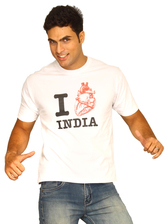clothoes: (15, 54, 137, 187)
